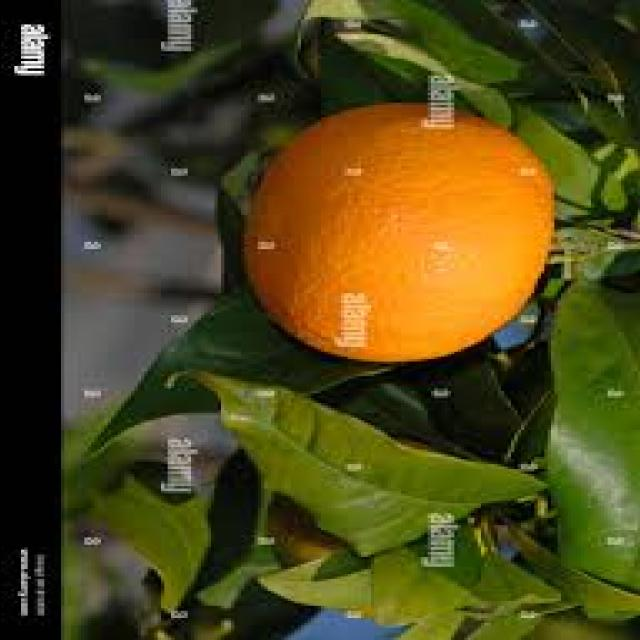orange: (254, 95, 576, 377)
